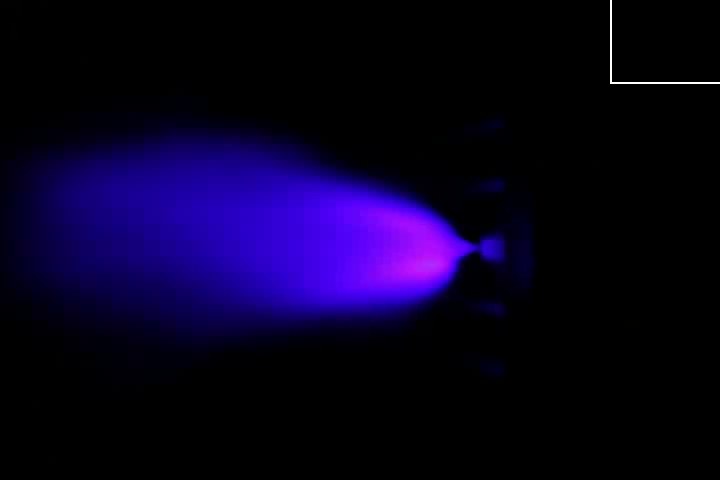burner cap: (481, 233, 504, 261)
unstable: (344, 197, 477, 298)
